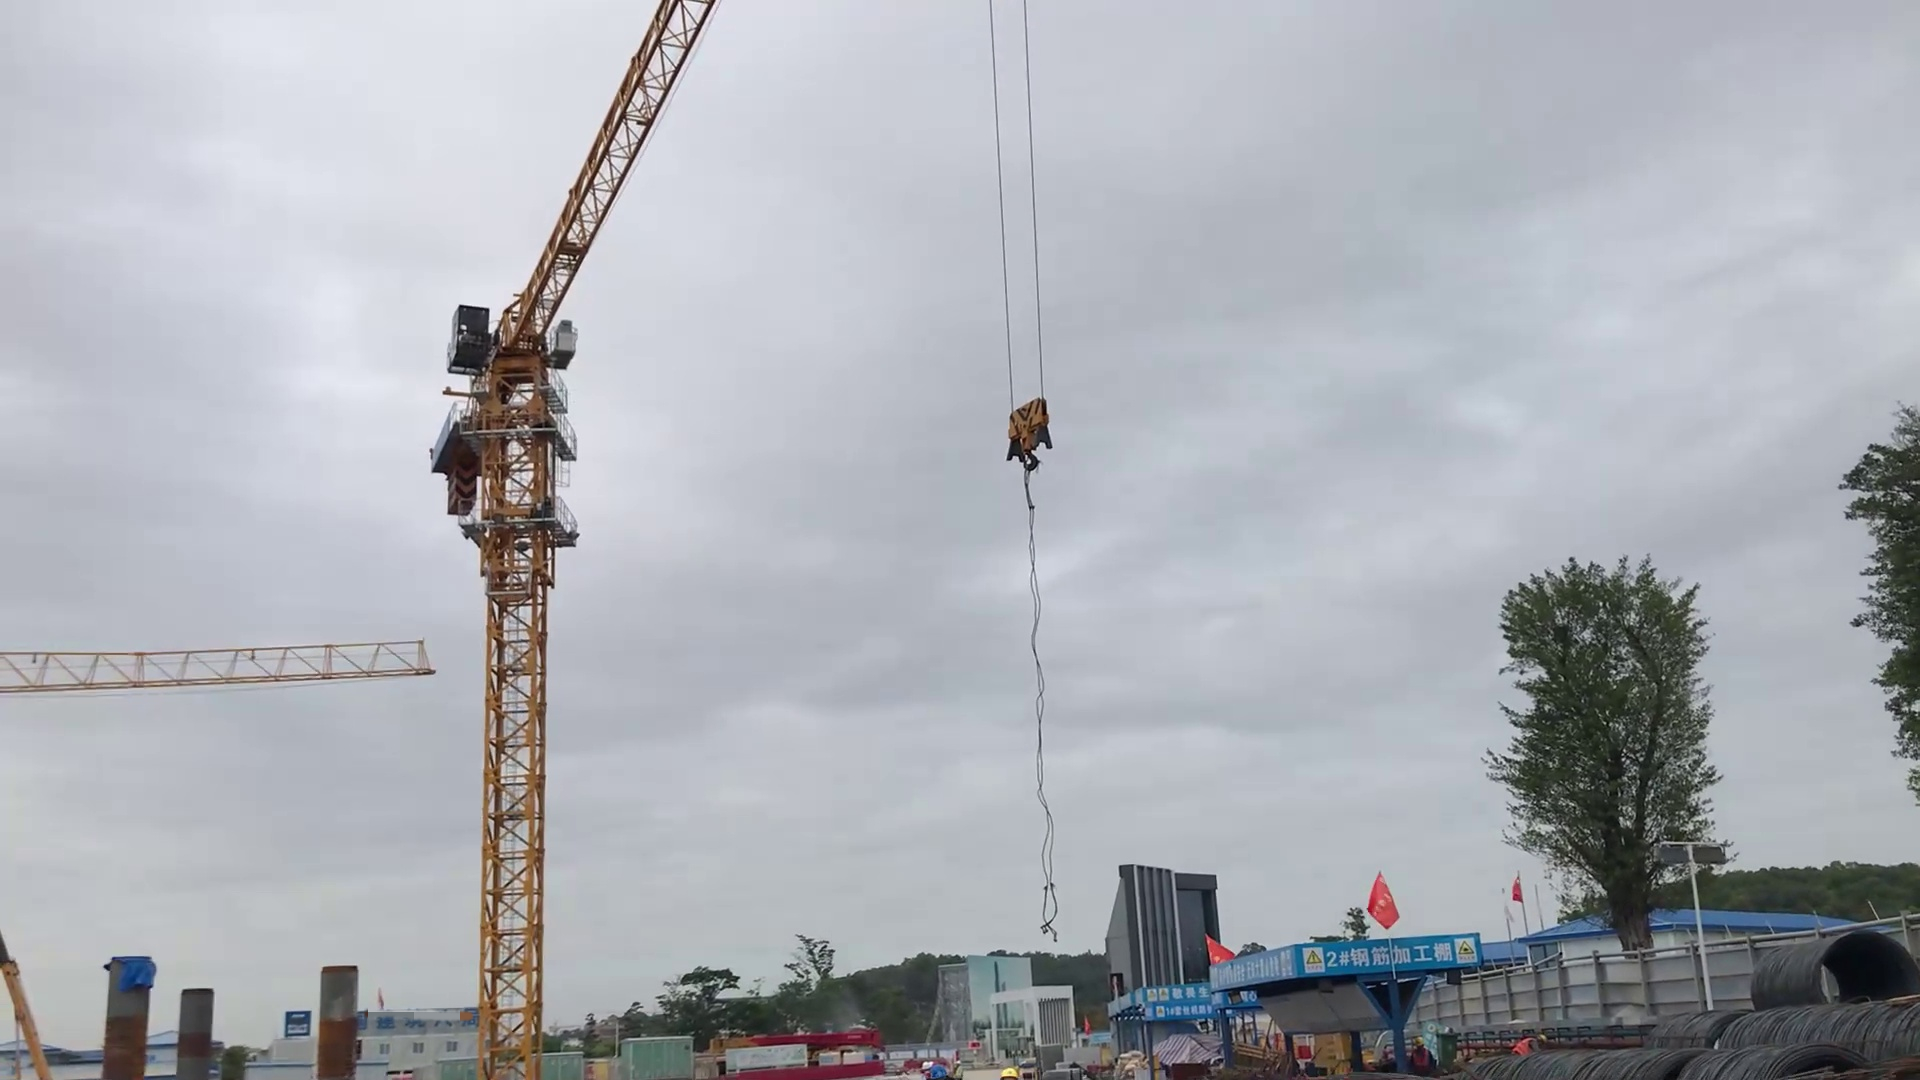hook: (997, 392, 1062, 473)
